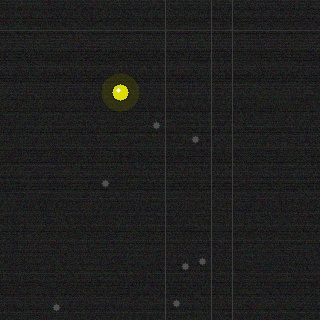yellow_warning: (110, 82, 130, 102)
